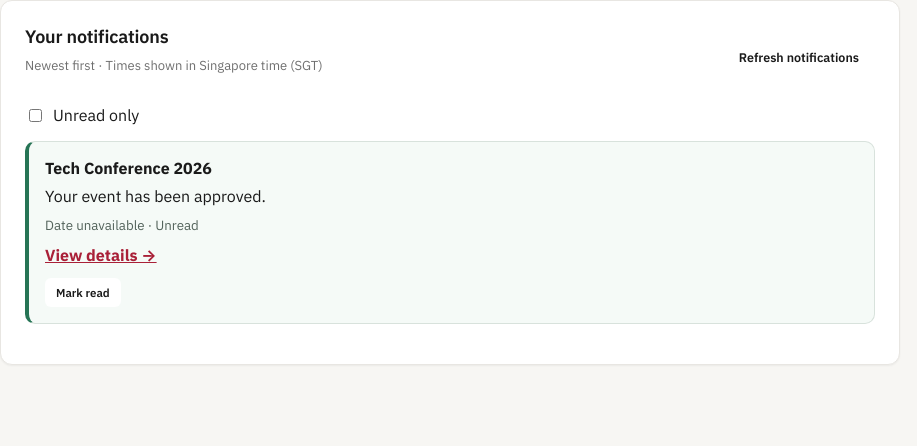
Test: failed legacy read write retains unread content and prevents navigation
Check: the text "Your event has been approved." is shown, box [45,186,266,206]
Click the link at (128, 168), box [45,158,266,264]
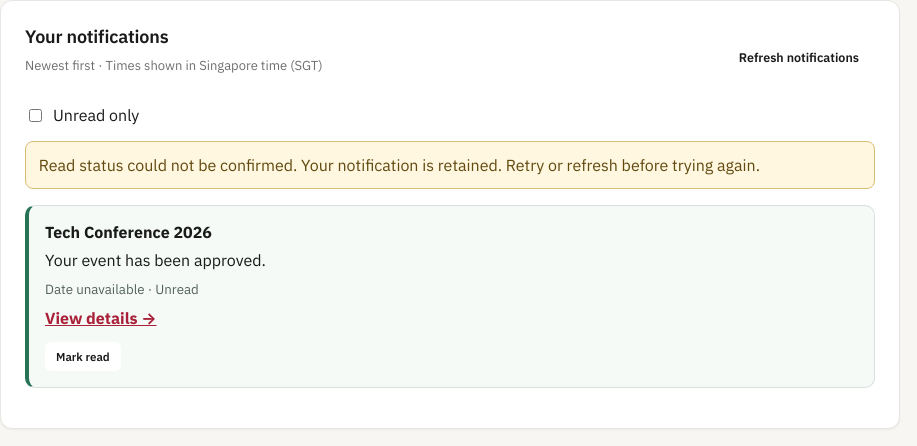
Check: the text "Date unavailable · Unread" is shown, box [45,280,199,298]
Check: the message is shown, box [25,141,875,189]
